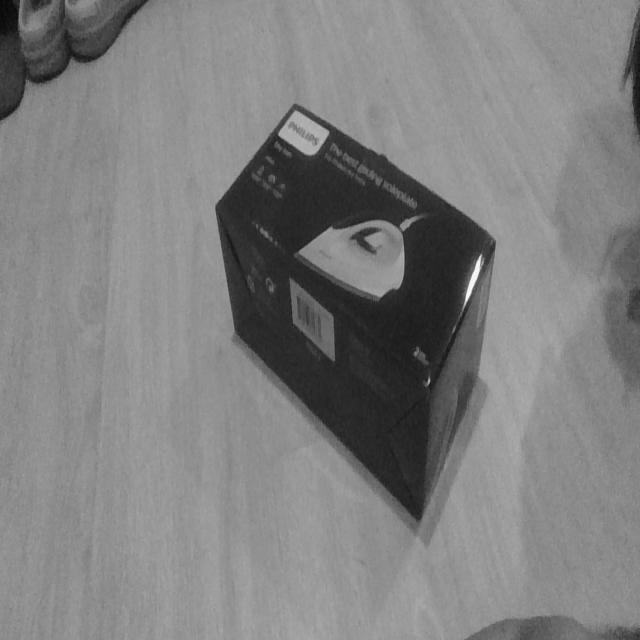IRON: (213, 100, 498, 528)
